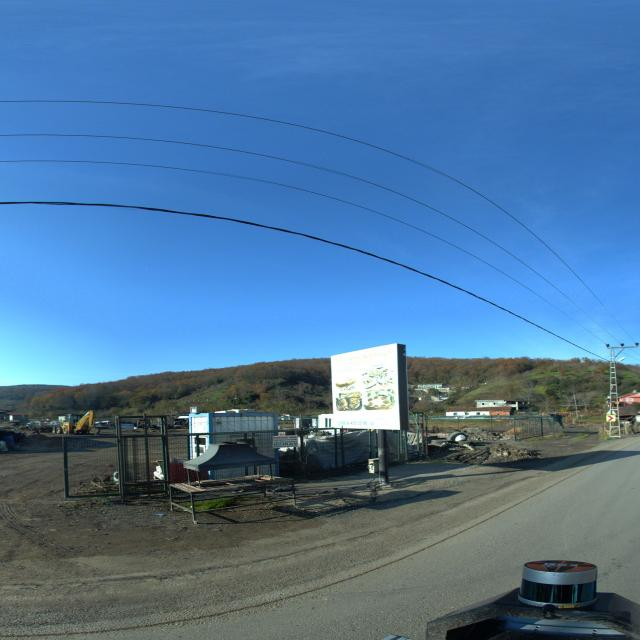Utility Pole Information Plate: (615, 401, 619, 405)
